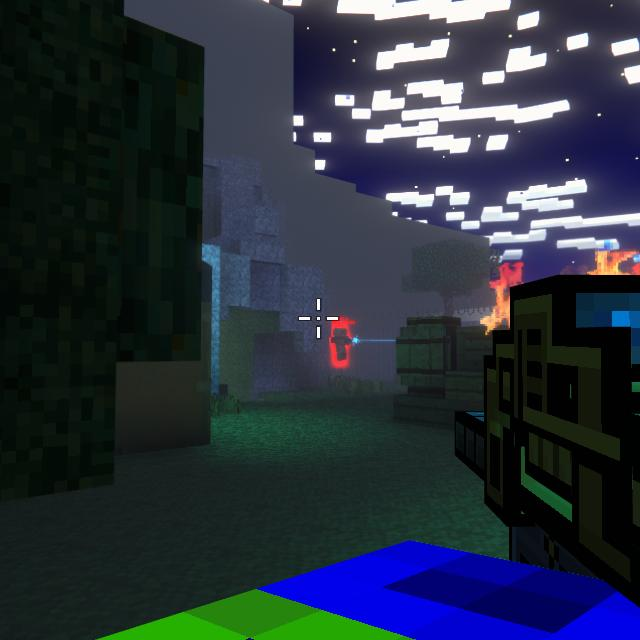Enemy: (331, 328, 352, 361)
